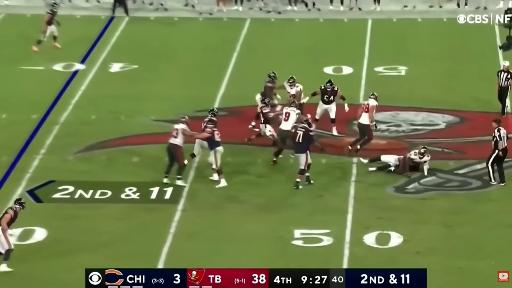Helmet: (14, 198, 25, 209), (287, 76, 296, 88), (419, 146, 427, 157), (268, 71, 277, 80), (208, 108, 217, 117), (305, 118, 314, 127), (179, 116, 189, 124), (325, 79, 333, 89), (261, 98, 270, 106), (50, 1, 59, 9), (369, 93, 377, 101), (290, 100, 299, 107)
Jersey: (295, 124, 314, 154), (279, 107, 300, 130), (204, 122, 221, 150), (169, 123, 189, 146), (359, 99, 377, 124), (0, 207, 18, 228), (285, 83, 303, 102), (320, 86, 338, 105), (260, 79, 275, 100), (408, 150, 430, 163), (202, 117, 216, 132), (46, 10, 57, 26), (261, 106, 270, 124)
Player: (164, 116, 197, 186), (196, 119, 227, 187), (272, 100, 304, 164), (311, 80, 348, 135), (361, 146, 430, 175), (0, 198, 25, 271), (348, 93, 378, 153), (250, 72, 277, 129), (32, 1, 61, 51), (295, 119, 315, 189), (247, 98, 276, 142), (284, 76, 308, 113), (185, 139, 207, 165)
